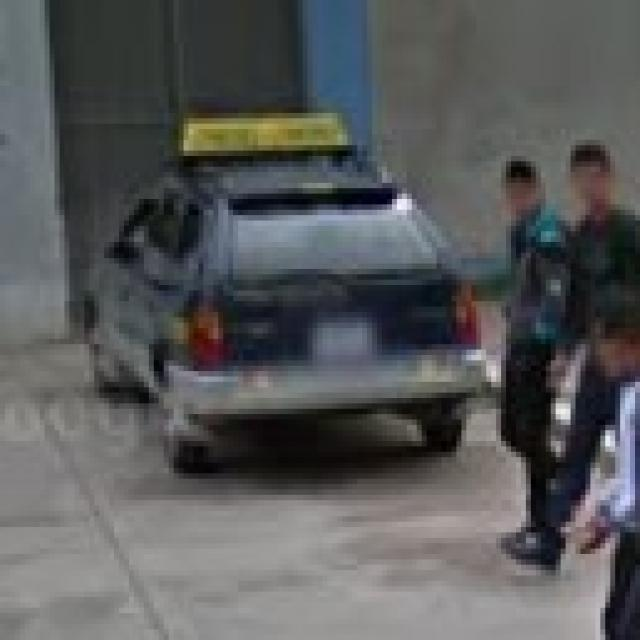cars: (94, 128, 493, 486)
